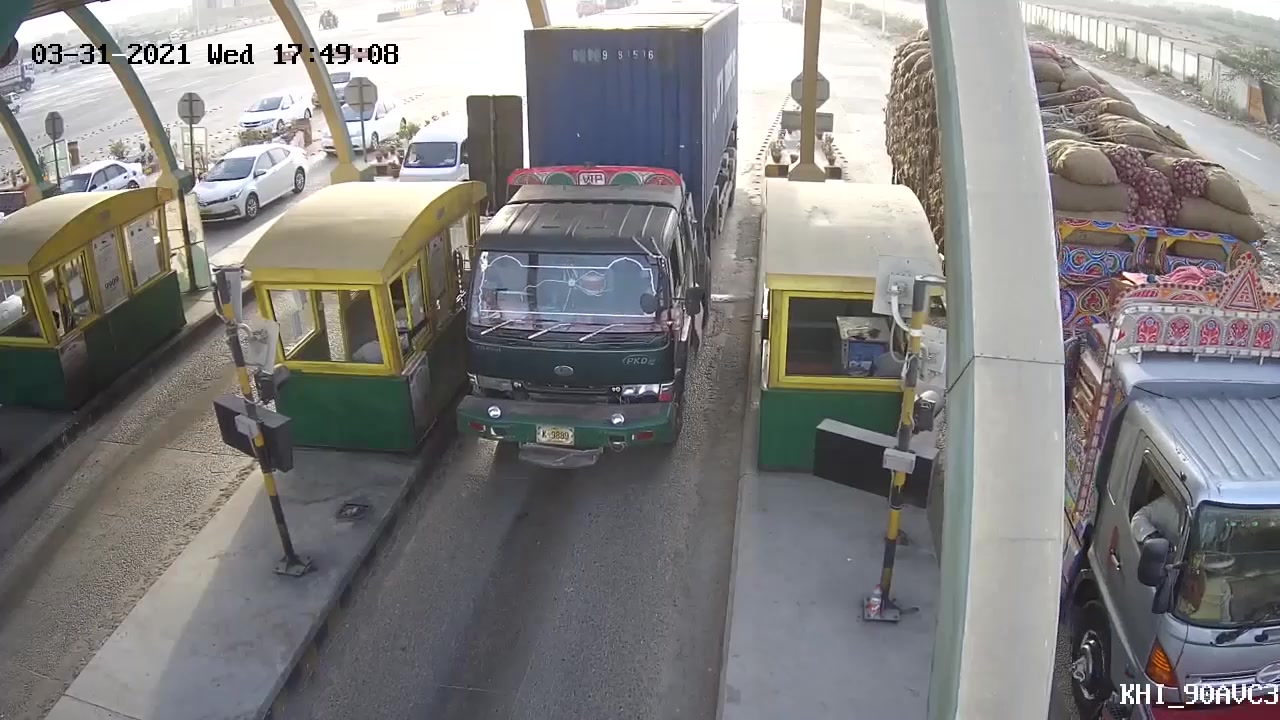F6: (443, 1, 748, 487)
